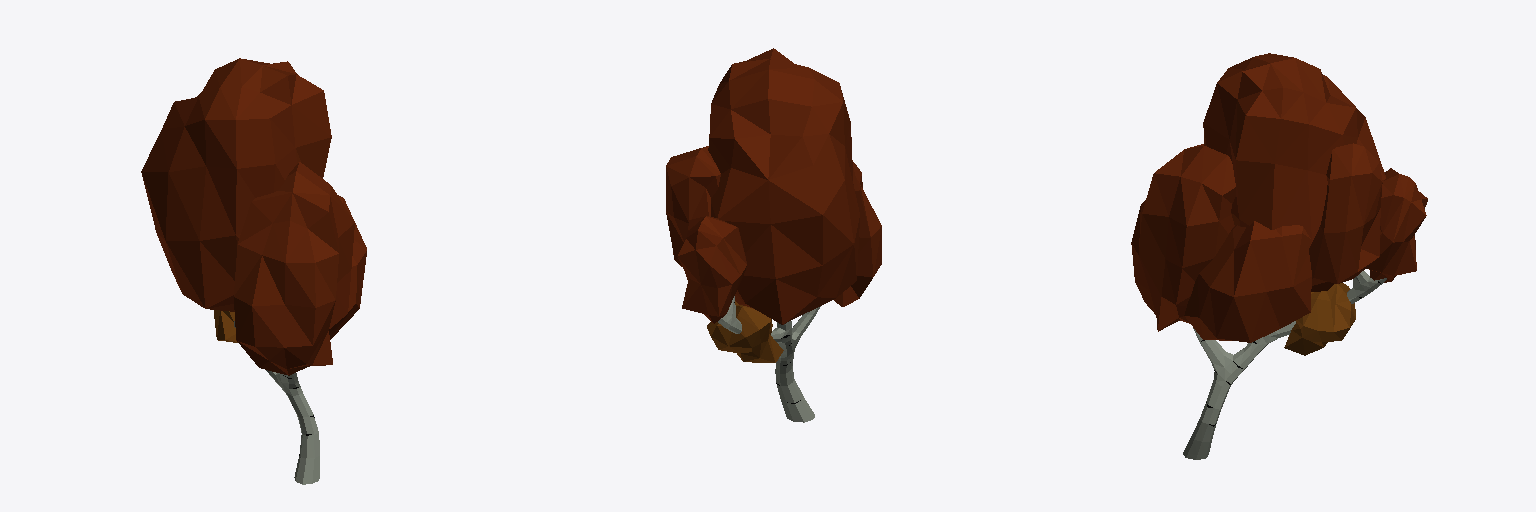
File: BirchTree_Autumn_1_Cube.obj
The picture shows the model from 3 angles: view 1: azimuth 30°, elevation 25°; view 2: azimuth 150°, elevation 25°; view 3: azimuth 270°, elevation 25°; orthographic projection.
Parts seen in each view (by area): view 1: BirchTree_Autumn_1_Cube.097; view 2: BirchTree_Autumn_1_Cube.097; view 3: BirchTree_Autumn_1_Cube.097.
Boxes of the visible parts, x1,y1,x2,y2 form: BirchTree_Autumn_1_Cube.097: [141, 58, 366, 484]; BirchTree_Autumn_1_Cube.097: [666, 48, 881, 422]; BirchTree_Autumn_1_Cube.097: [1131, 53, 1427, 459].
Size of the model in its own units: 1.7 by 3.57 by 2.48.